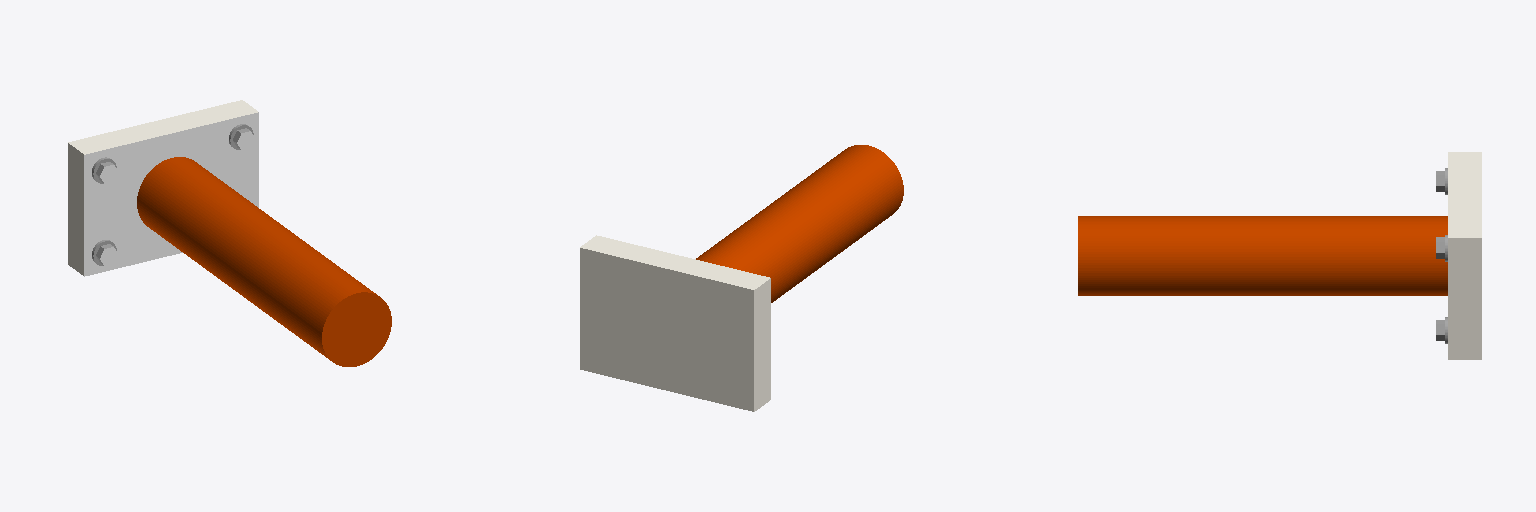
Rendered from tower.obj.
3 views of the same model, side by side, from view 1: azimuth 30°, elevation 25°; view 2: azimuth 150°, elevation 25°; view 3: azimuth 270°, elevation 25° (orthographic).
Visible parts, largest first — view 1: Bryła2; view 2: Bryła2; view 3: Bryła2.
Boxes of the visible parts, <box> form: Bryła2: <box>68,100,391,366</box>; Bryła2: <box>580,145,903,411</box>; Bryła2: <box>1078,152,1481,359</box>.
Bounding box in the file's own units: 60 × 40 × 120.